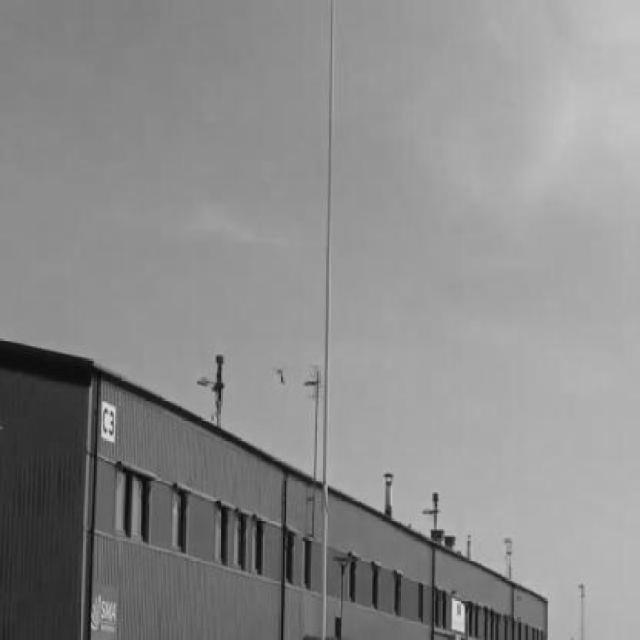helikopter: (272, 358, 290, 390)
